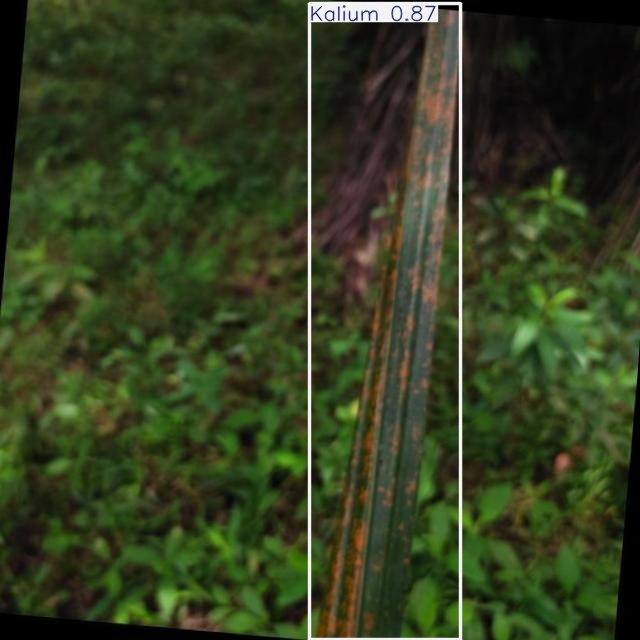Kalium: (309, 3, 461, 640)
